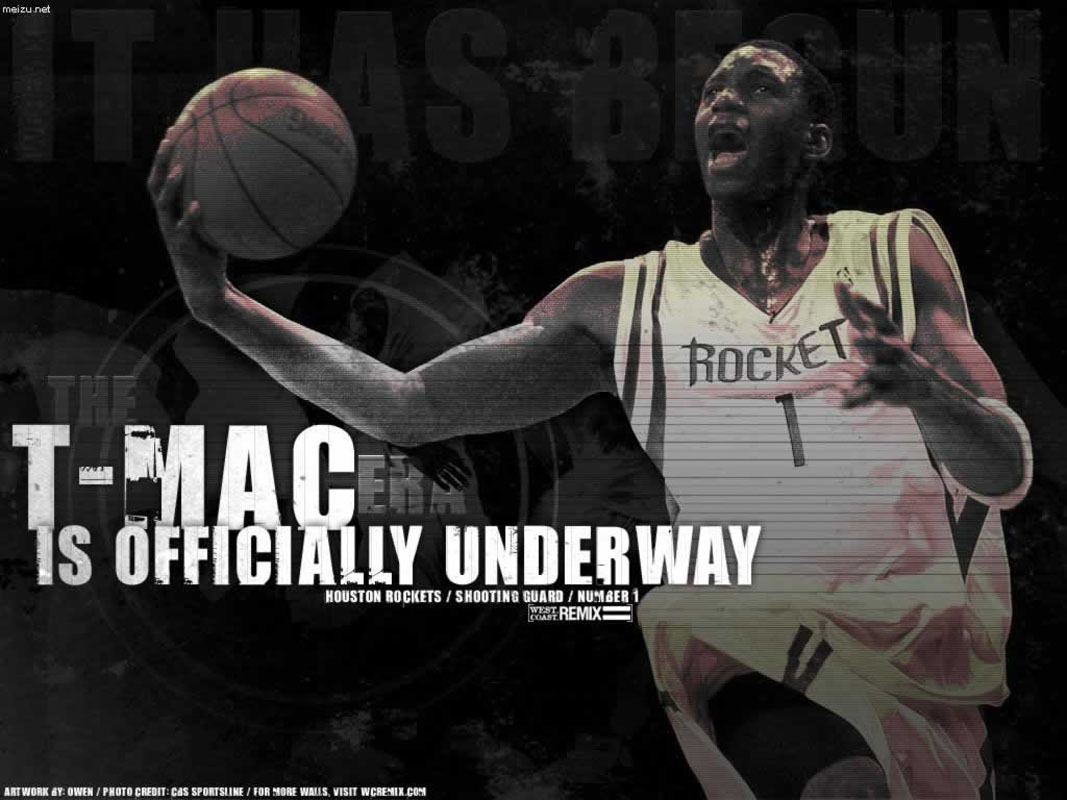ball: (163, 67, 359, 263)
